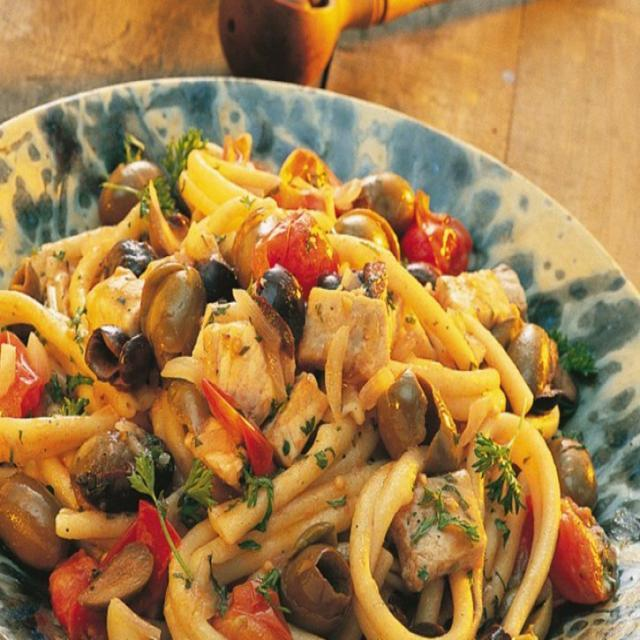Pasta al ragu: (3, 118, 629, 634)
